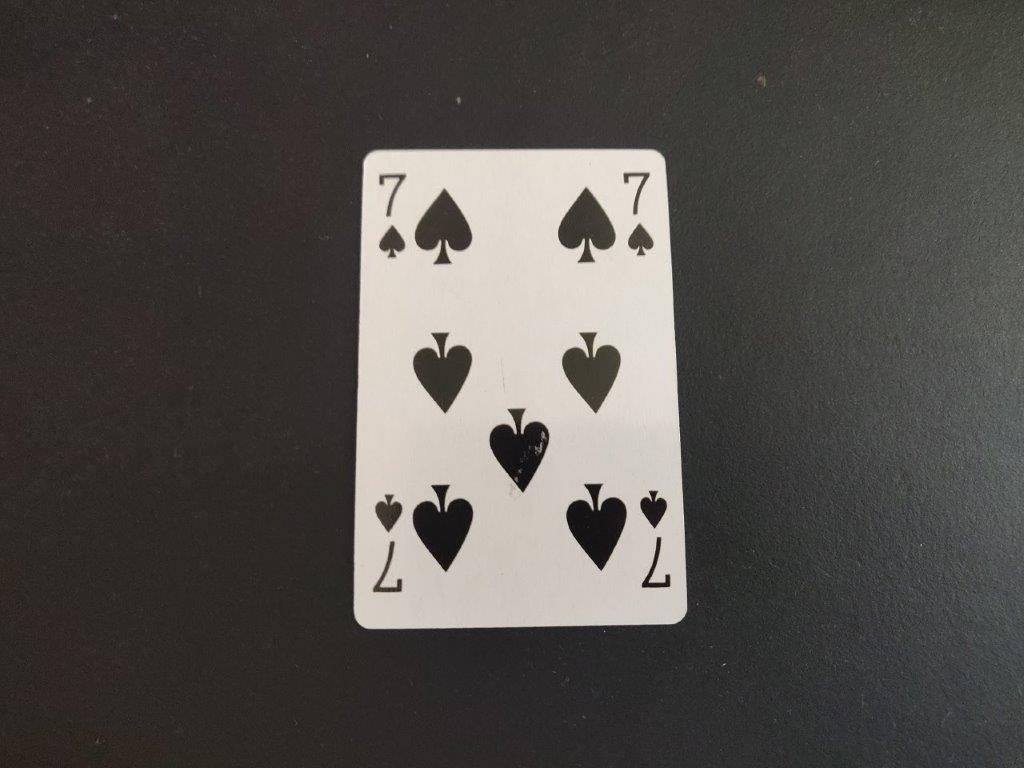7S: (619, 165, 662, 262), (372, 164, 412, 263)
